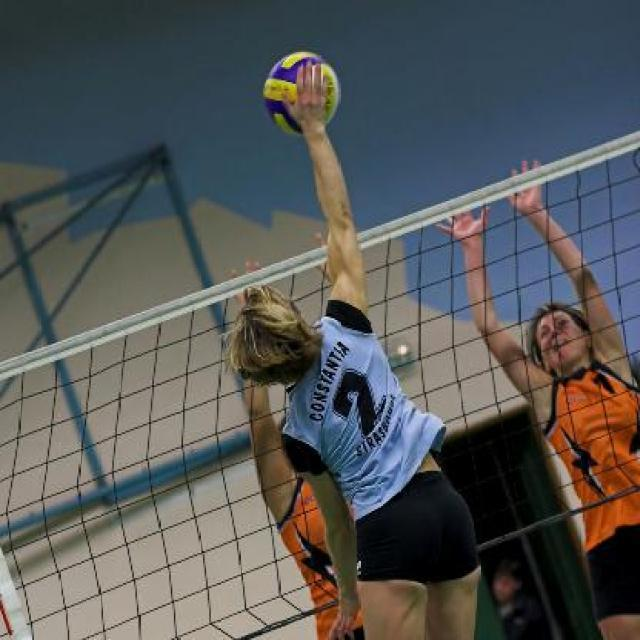volleyball: (262, 51, 341, 136)
